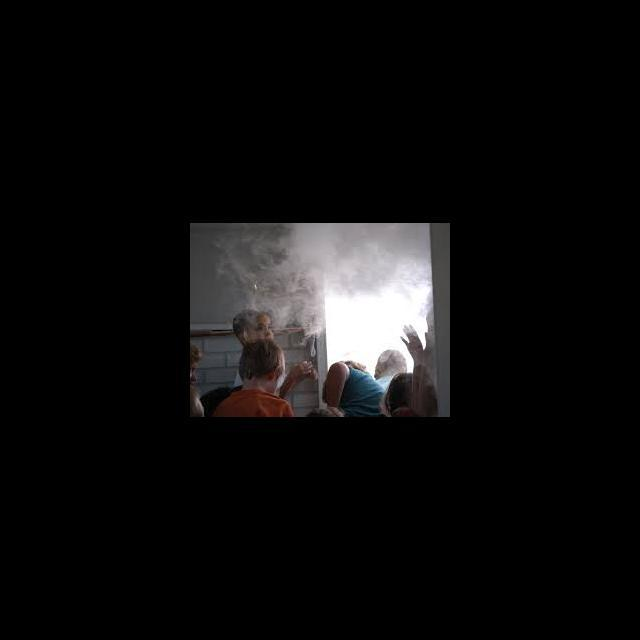Smoke: (215, 223, 429, 285), (275, 284, 325, 334), (326, 284, 411, 294), (244, 286, 274, 309)
